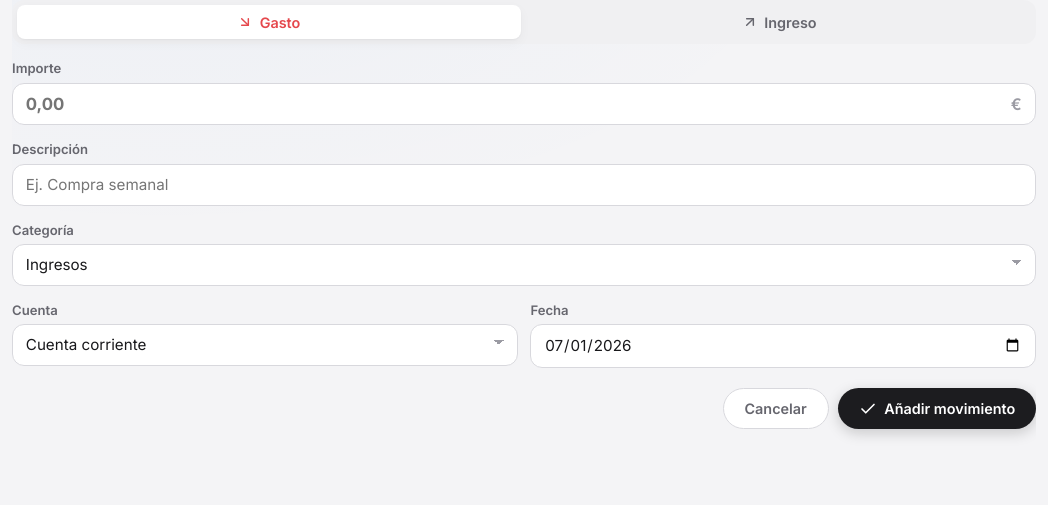
Test: TransactionForm › rejects submission when the date is empty
Step 1. Type "12,50" into the field with placeholder "0,00" → (524, 104), box [12, 83, 1036, 125]
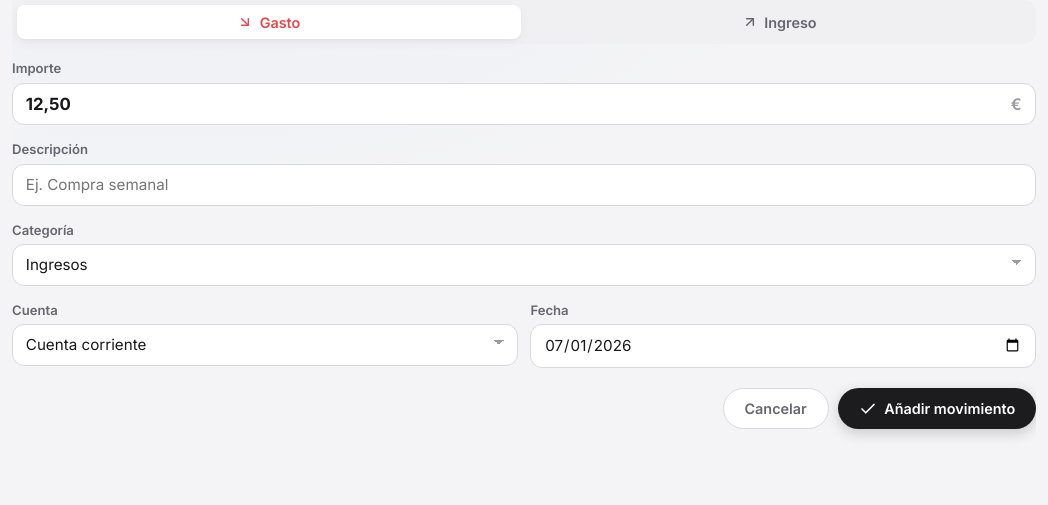
Step 2. Type "Supermercado" into the field with placeholder "Ej. Compra semanal" → (524, 185), box [12, 164, 1036, 206]
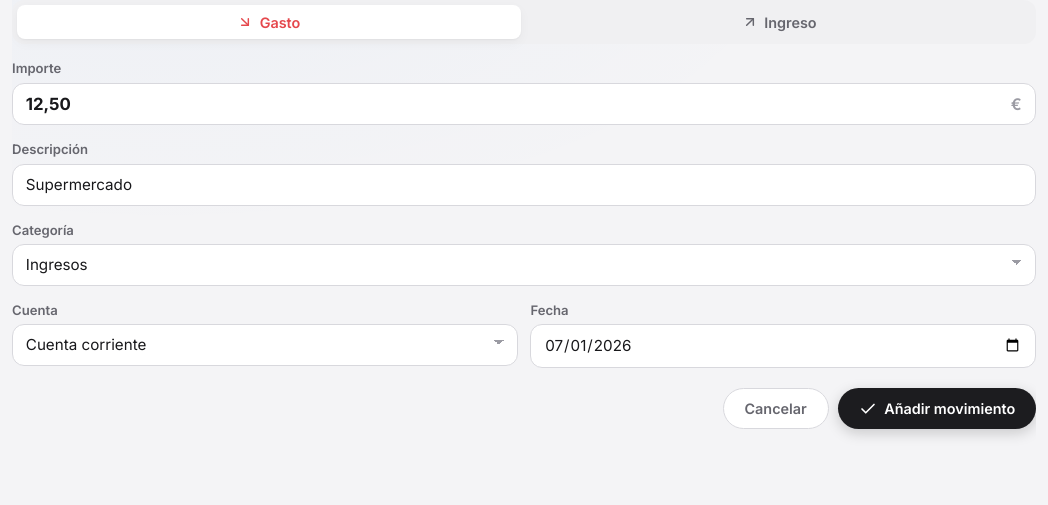
Step 3. Clear the date field labelled "Fecha" → (783, 346), box [530, 324, 1036, 368]
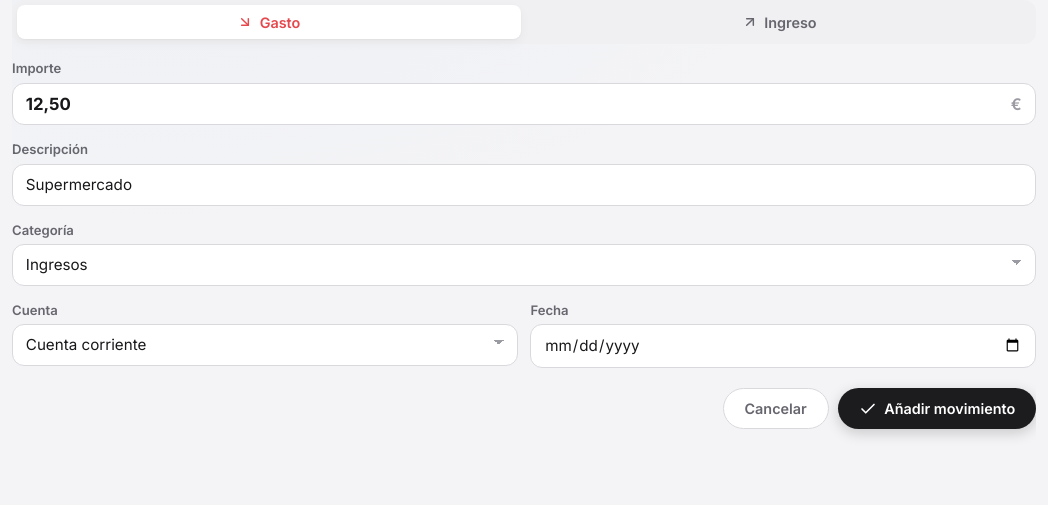
Step 4. Click the button "Añadir movimiento" → (937, 409), box [838, 388, 1036, 429]
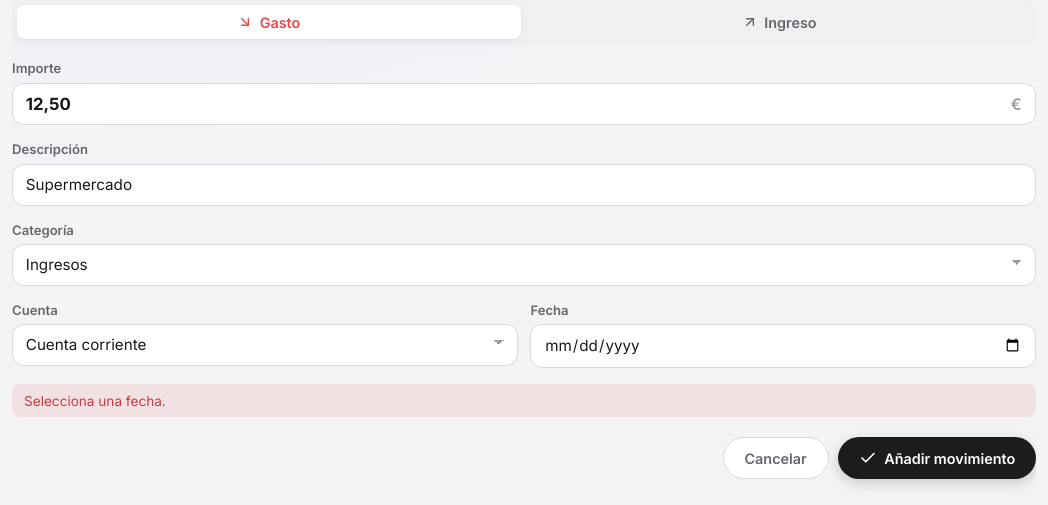
Check: the text "Selecciona una fecha." is shown, box [12, 384, 1036, 418]
